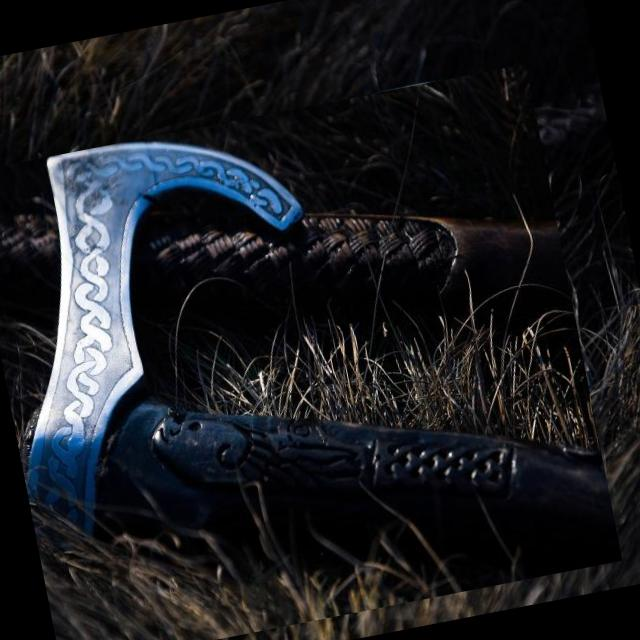Axe: (26, 144, 620, 574)
